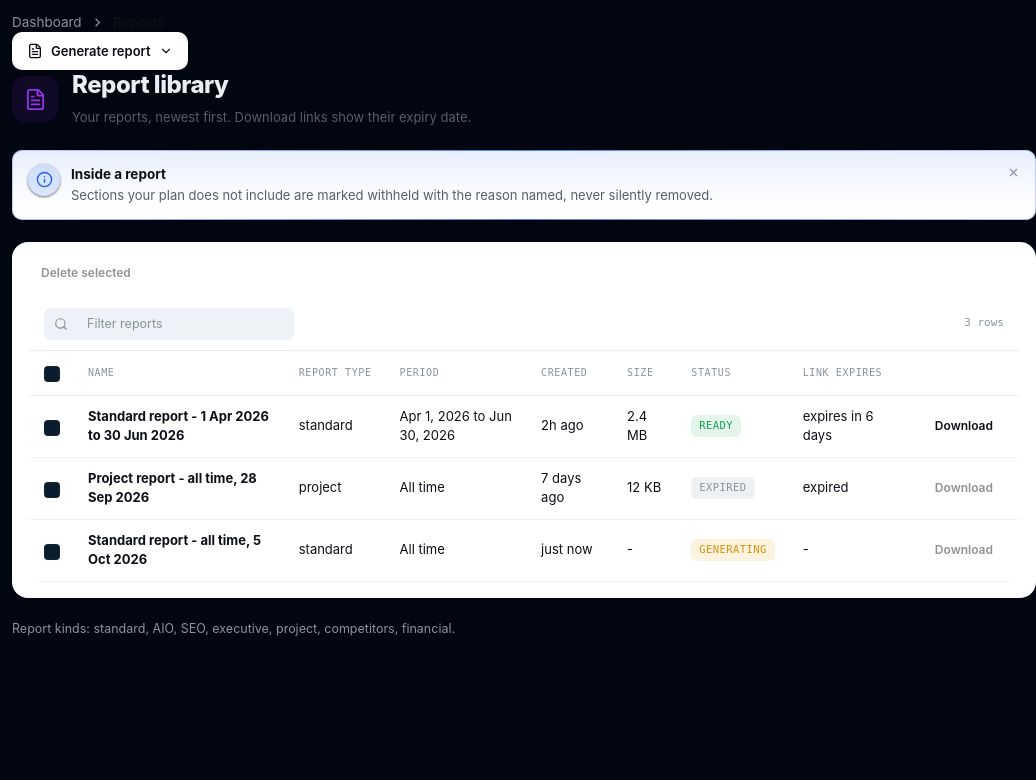
ReportLibraryClient › selects every row through the header checkbox
This screenshot has width=1036, height=780.
Click the checkbox named "Select all rows" at (52, 374), box [44, 366, 60, 382]
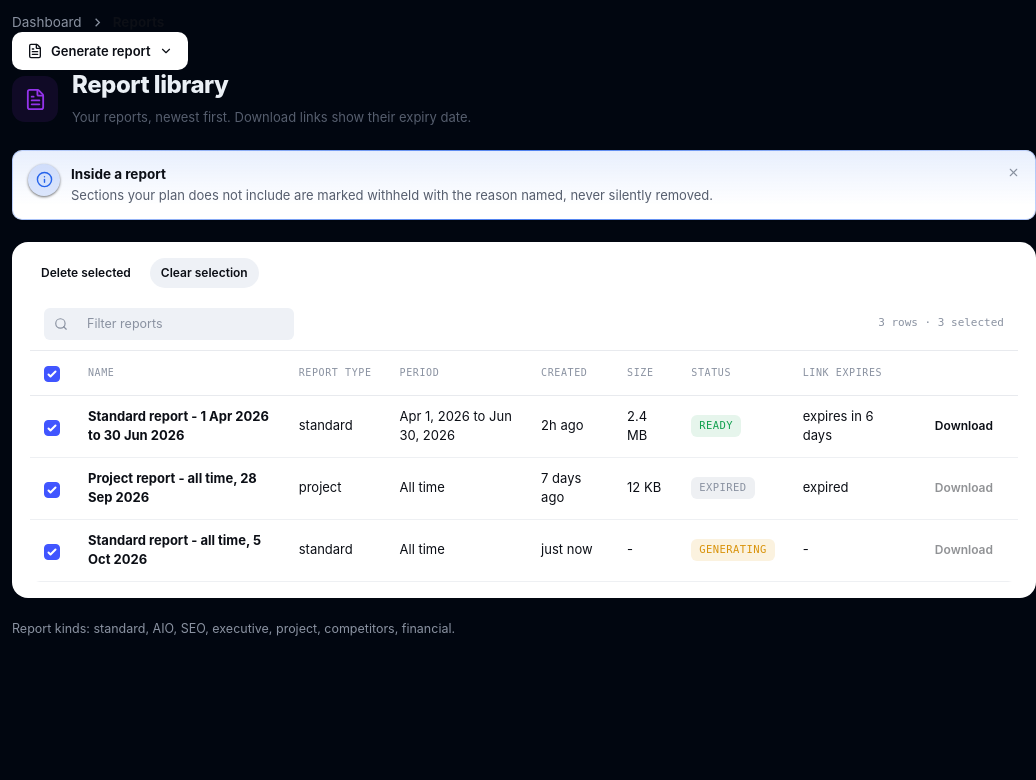
Expected: the text "3 rows · 3 selected" is shown, [878, 315, 1004, 332]
